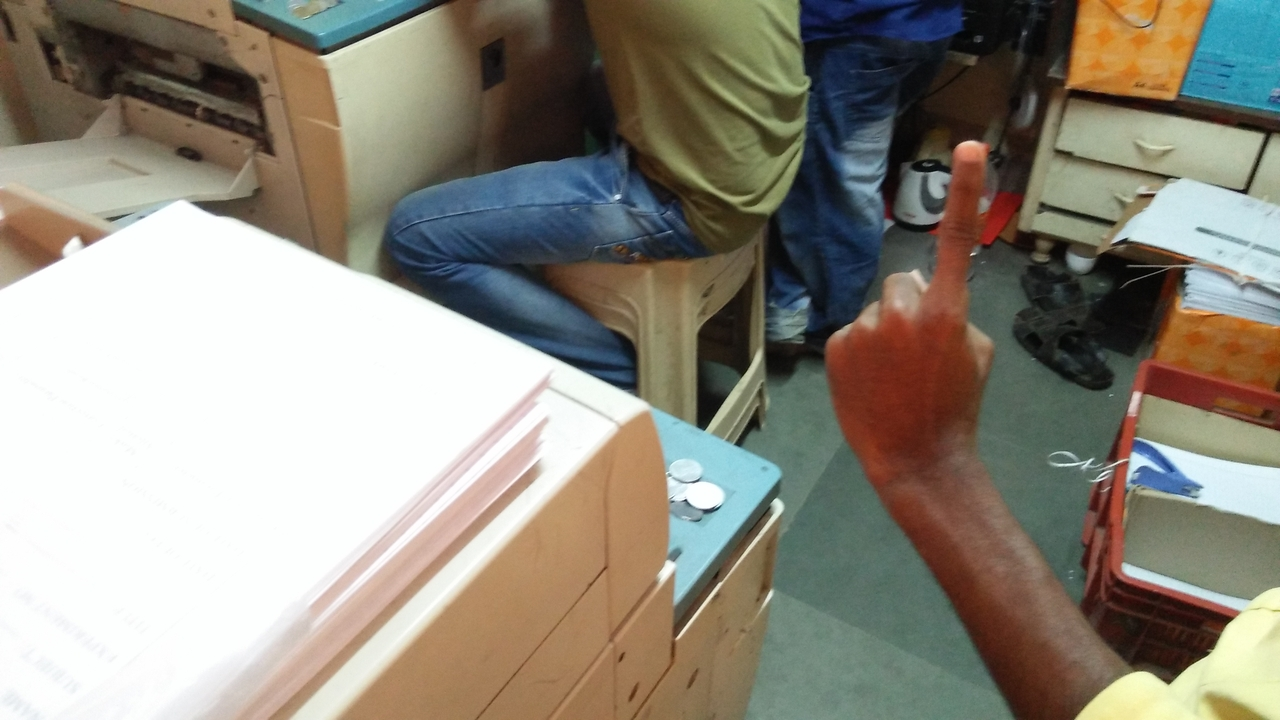fingertip: (948, 132, 994, 176)
